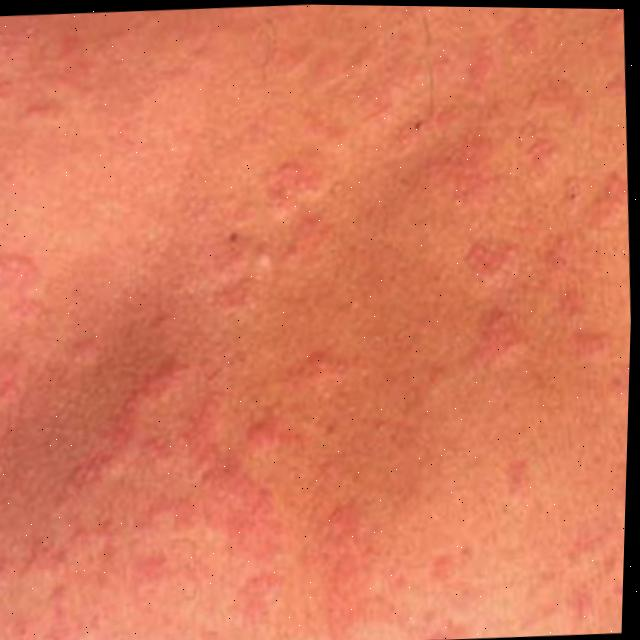Rosacea: (0, 111, 600, 590)
